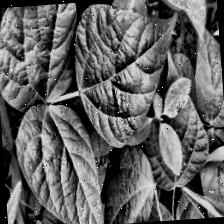ALS: (72, 1, 186, 148), (0, 2, 83, 106), (154, 0, 214, 43)
